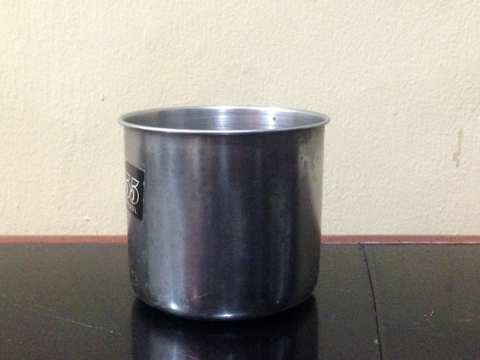tempat minum: (117, 104, 330, 319)
